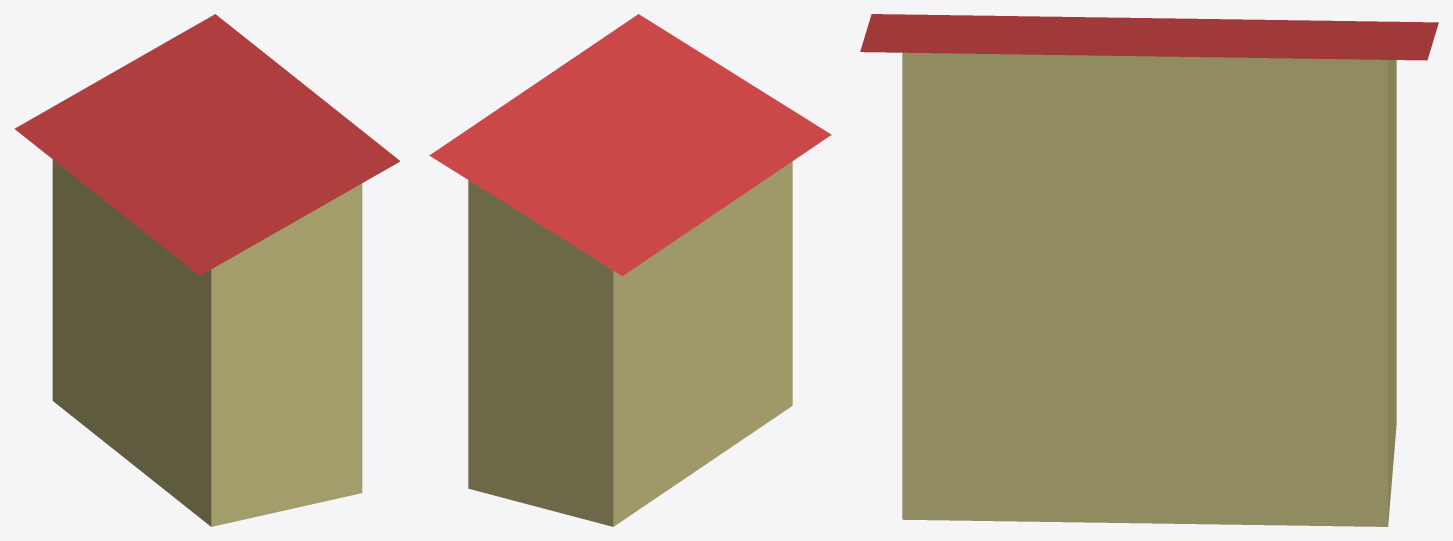
3 views of the same model, side by side, from view 1: azimuth 30°, elevation 25°; view 2: azimuth 150°, elevation 25°; view 3: azimuth 270°, elevation 25° (orthographic). The views are drawn at different scales.
Size of the model in its own units: 4.25 by 7.09 by 6.54.
